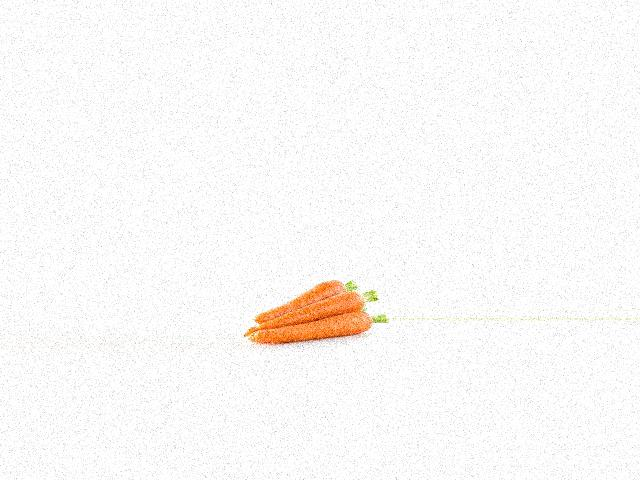carrot: (248, 314, 380, 342)
